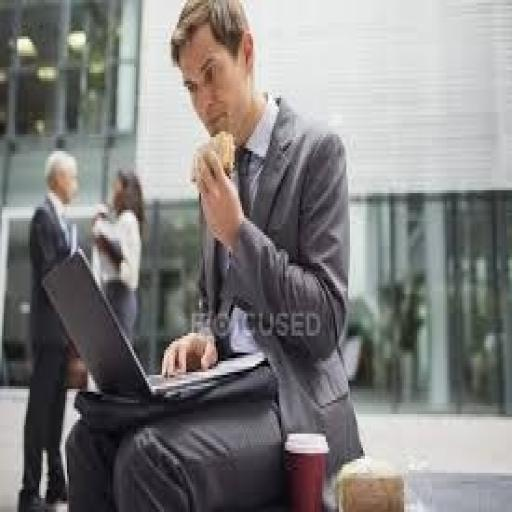eating: (63, 0, 365, 509), (15, 146, 87, 509)
